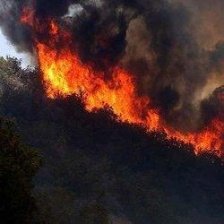fire: (22, 13, 224, 160)
smoke: (76, 1, 224, 73), (153, 3, 216, 115)
